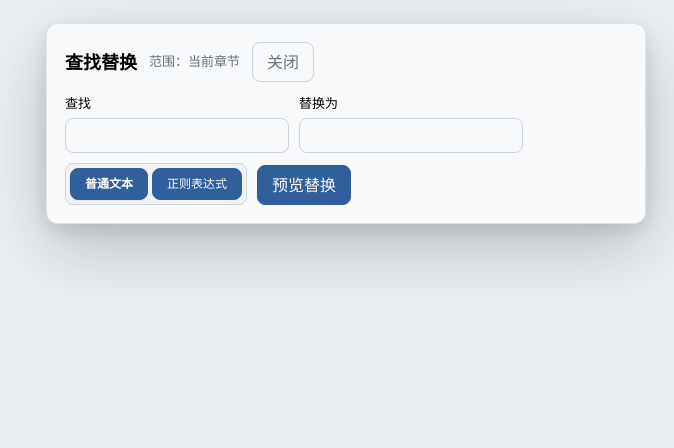
ReplacePanel 逐命中排除与替换计划 › 重叠命中：稳定拒绝并展示提示
Type "旧" into the field with test id "replace-find". click: (177, 135)
box: [65,118,289,153]
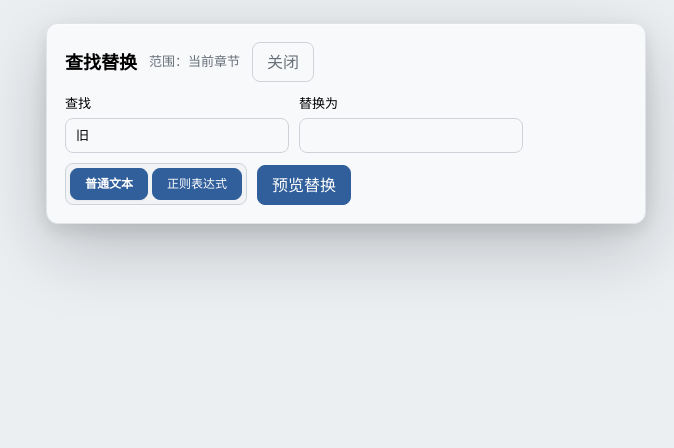
Click the button with test id "replace-preview". click: (304, 185)
box: [257,165,351,205]
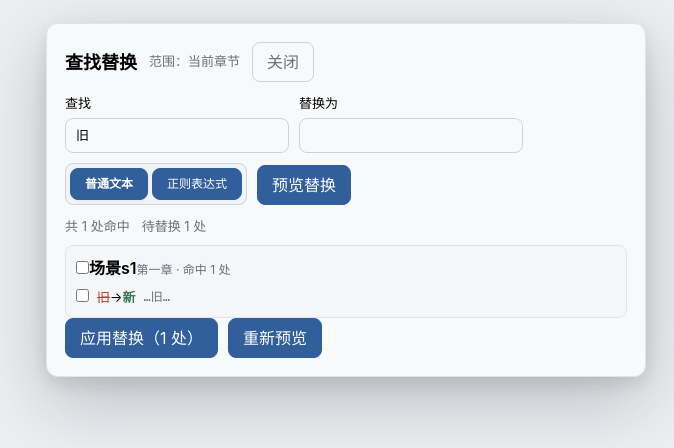
Check: the element with test id "replace-plan-view" is shown, box [65,217,627,318]
Click the button with test id "replace-apply". click: (142, 338)
box: [65,318,218,358]
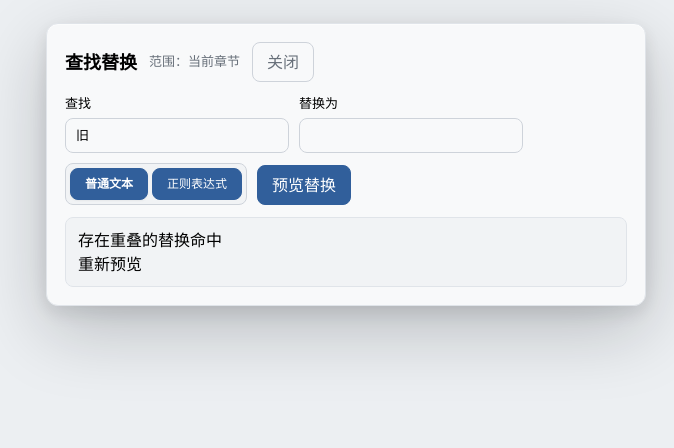
Check: the element with test id "replace-error-banner" is shown, box [65,217,627,287]
Check: the text "存在重叠的替换命中" is shown, box [78,230,222,250]
